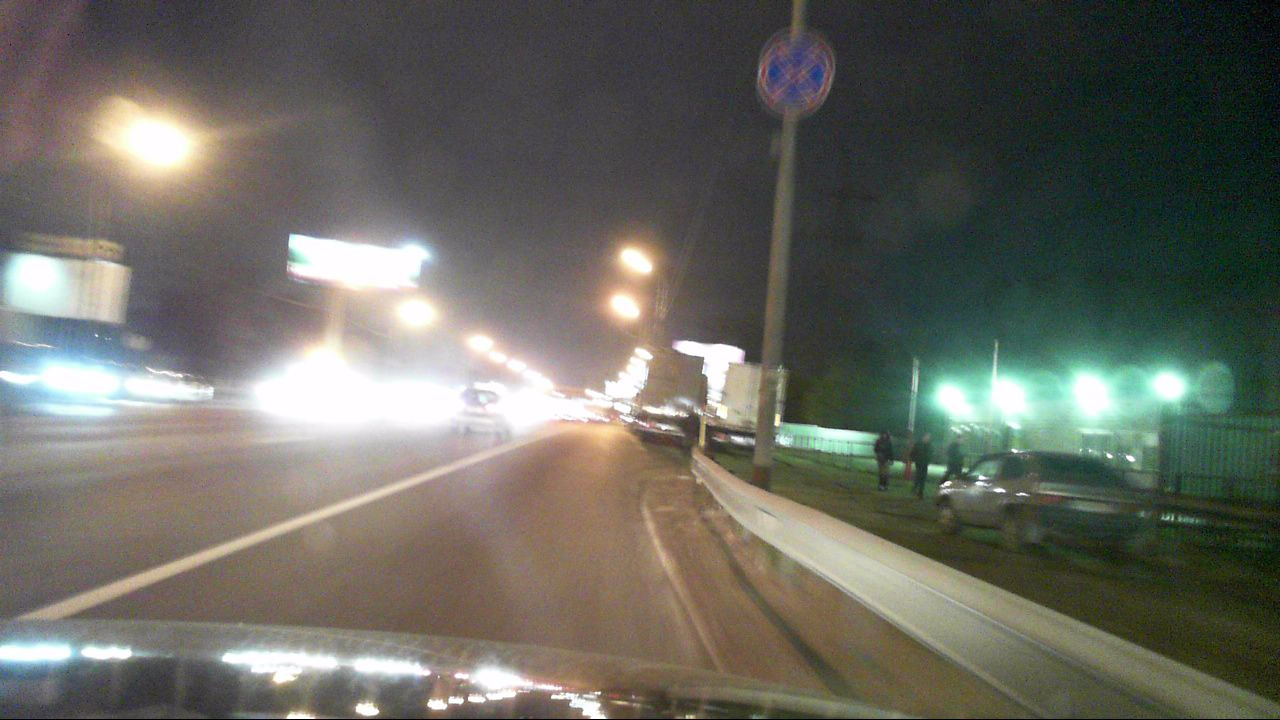No Parking: (756, 39, 830, 115)
